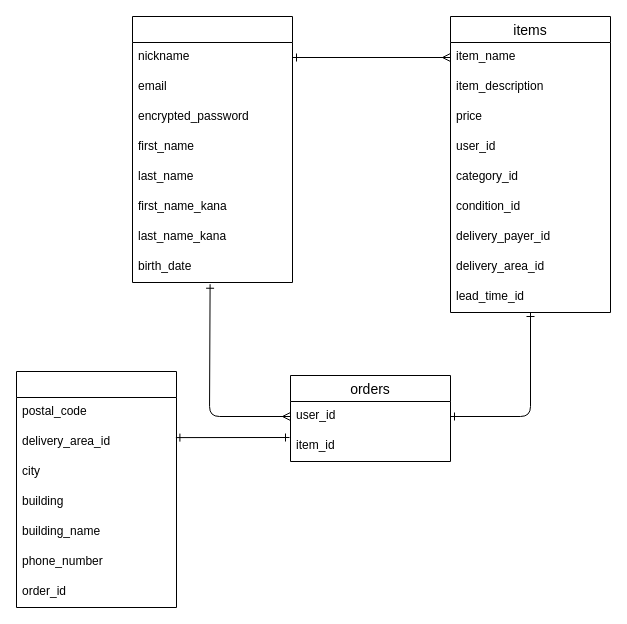
The diagram is 627 pixels wide and 624 high, and some of its shapes have lost their labels. The shapes that lost their labels are listed below. From the top down, each one's box as (x1, y1, x2, y2) in pixels, then its label:
(132, 16, 292, 282): users
(16, 370, 176, 608): delivery_addresses
